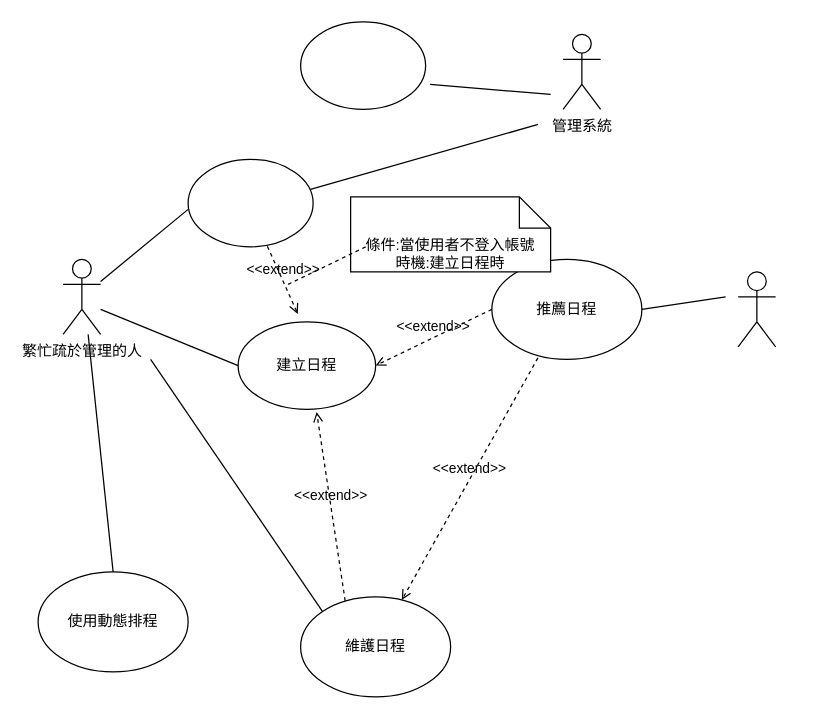
Image size: 820x719. Some labels were removed from this diagram. Here are the shapes that lost their labels. From the top down, the centre of each, then its label:
(x=362, y=65): 管理日程
(x=250, y=202): 管理會員
(x=756, y=309): ChatGpt API
